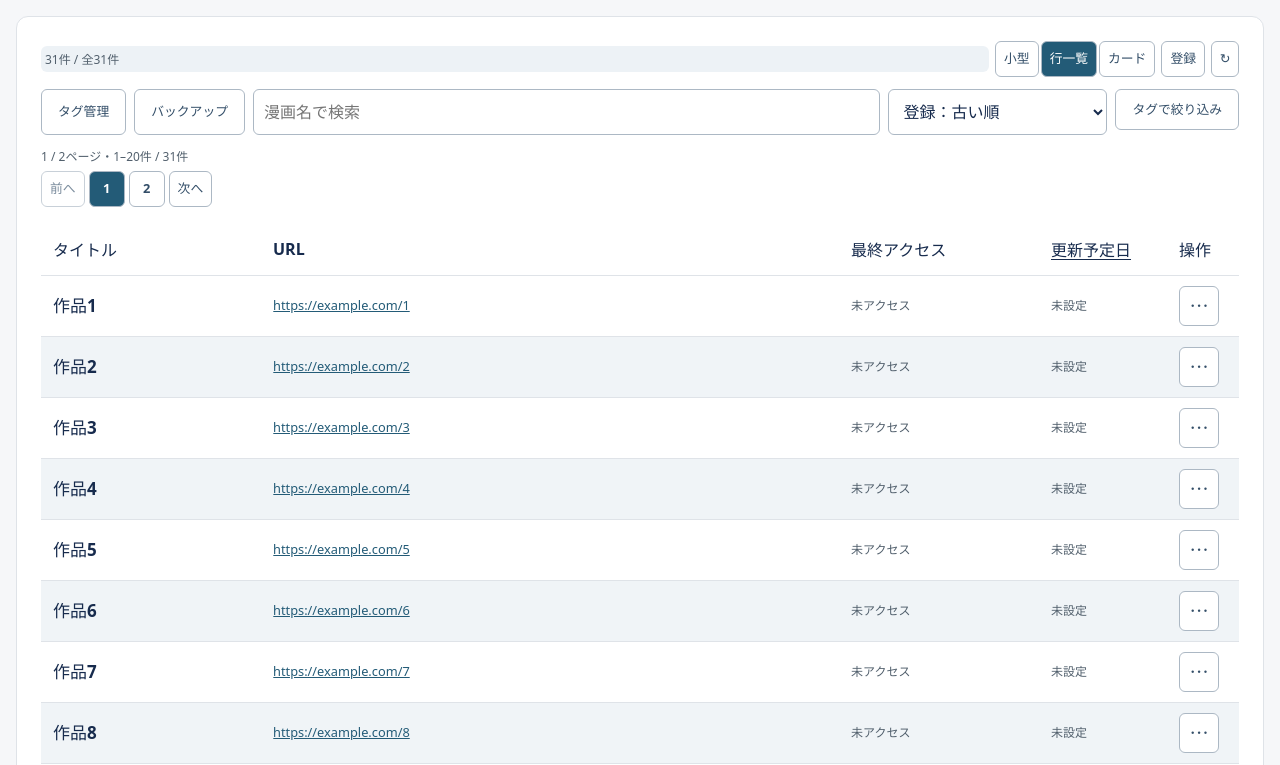
Test case: Tab/SpaceでチェックしEscでボタンへ戻り、外側クリックは検索へ移動する
Check: the heading "作品1" is shown, box [53,294,97,317]
Click the button "タグで絞り込み" at (1177, 110), box [1115,89,1239,130]
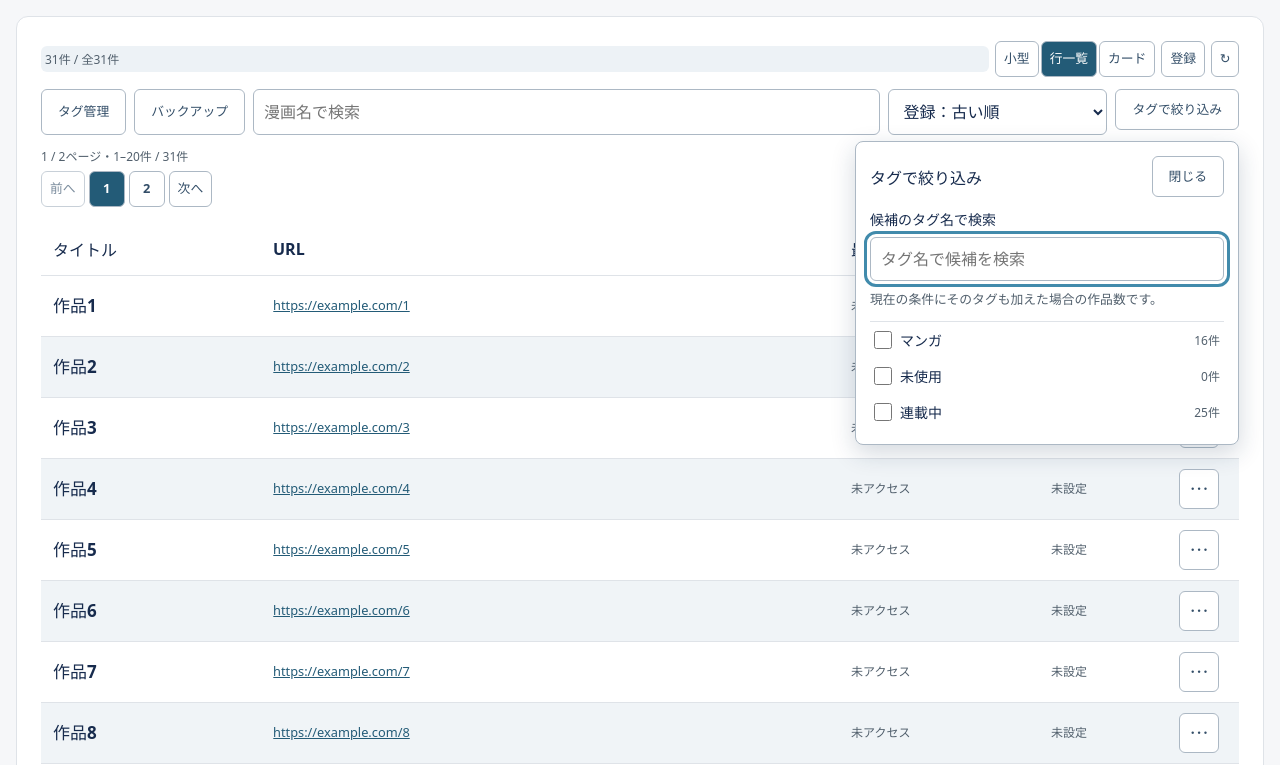
Press Tab
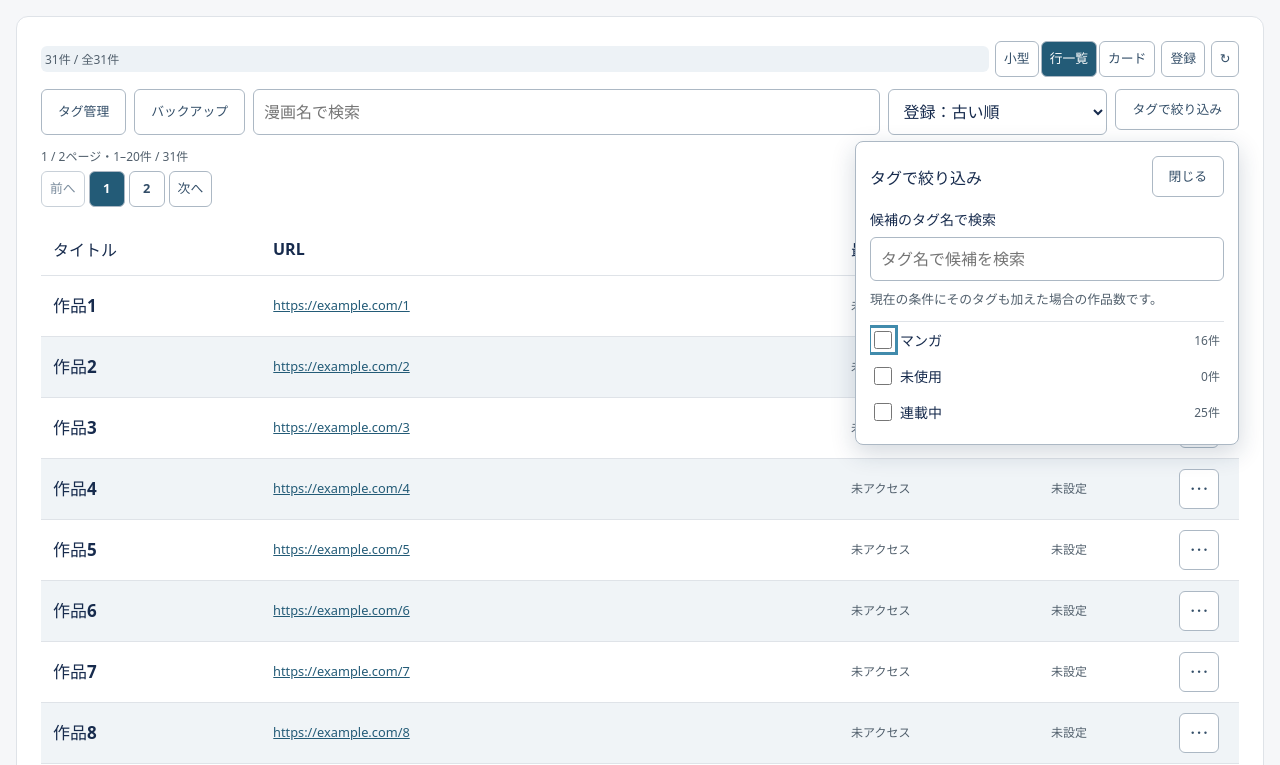
Press Shift+Tab
Type keys " "
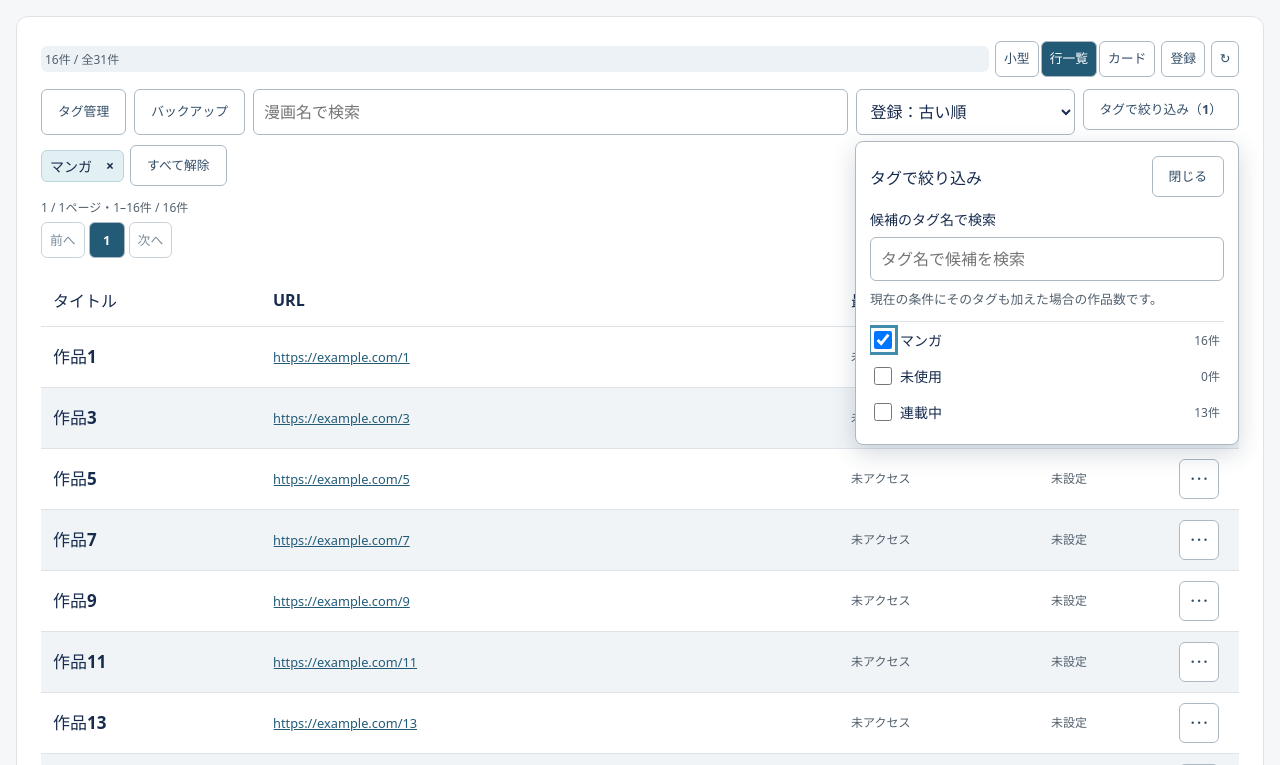
Check: the checkbox labelled "マンガ 16件" is checked, box [874,331,892,349]
Press Escape
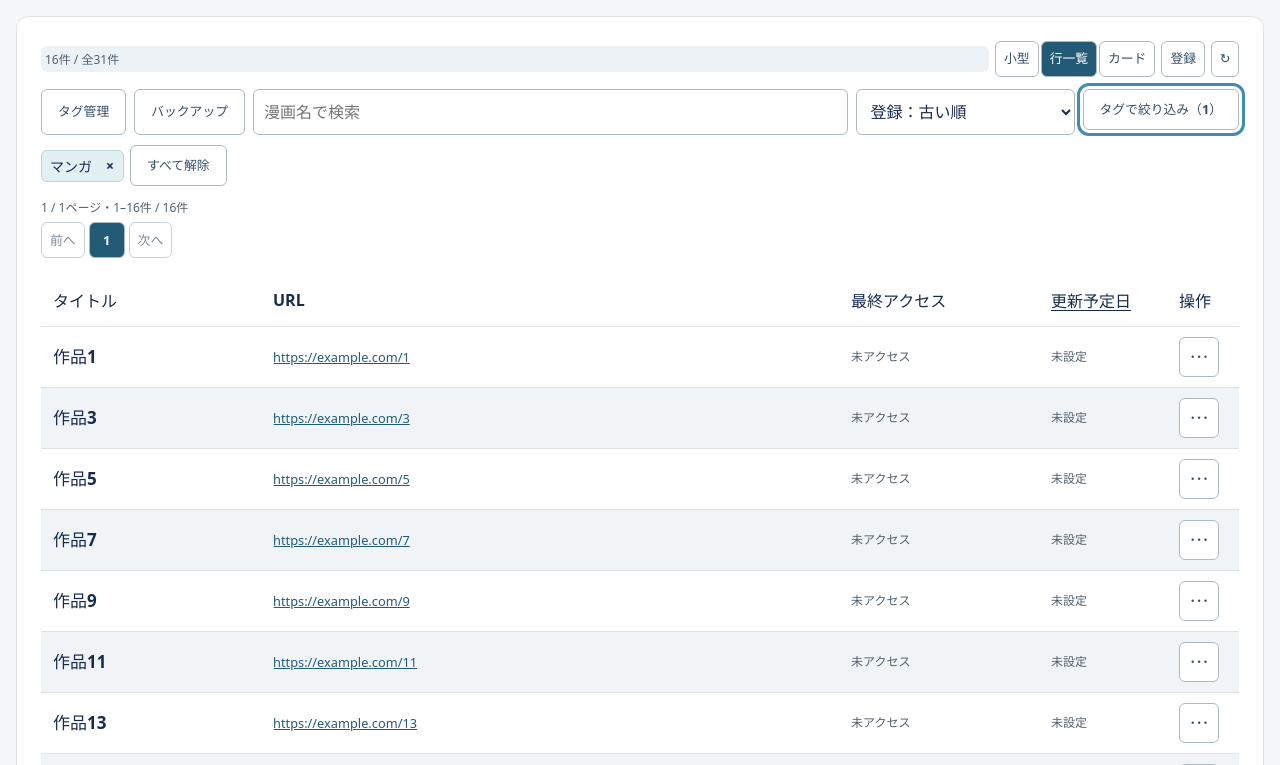
Check: the element "タグ絞り込みの候補" is gone
Click the button "タグで絞り込み（1）" at (1161, 110), box [1082,89,1239,130]
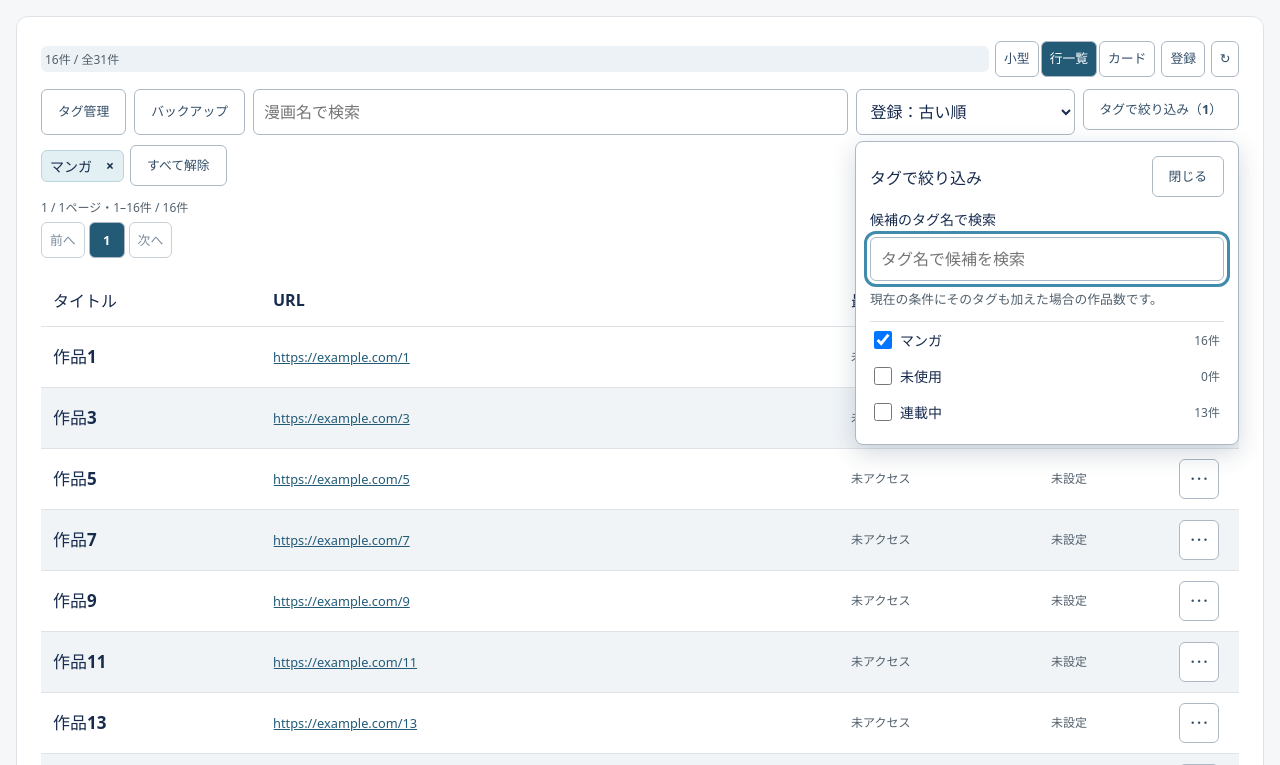
Click the search field labelled "漫画名で検索" at (550, 112), box [253,89,848,135]
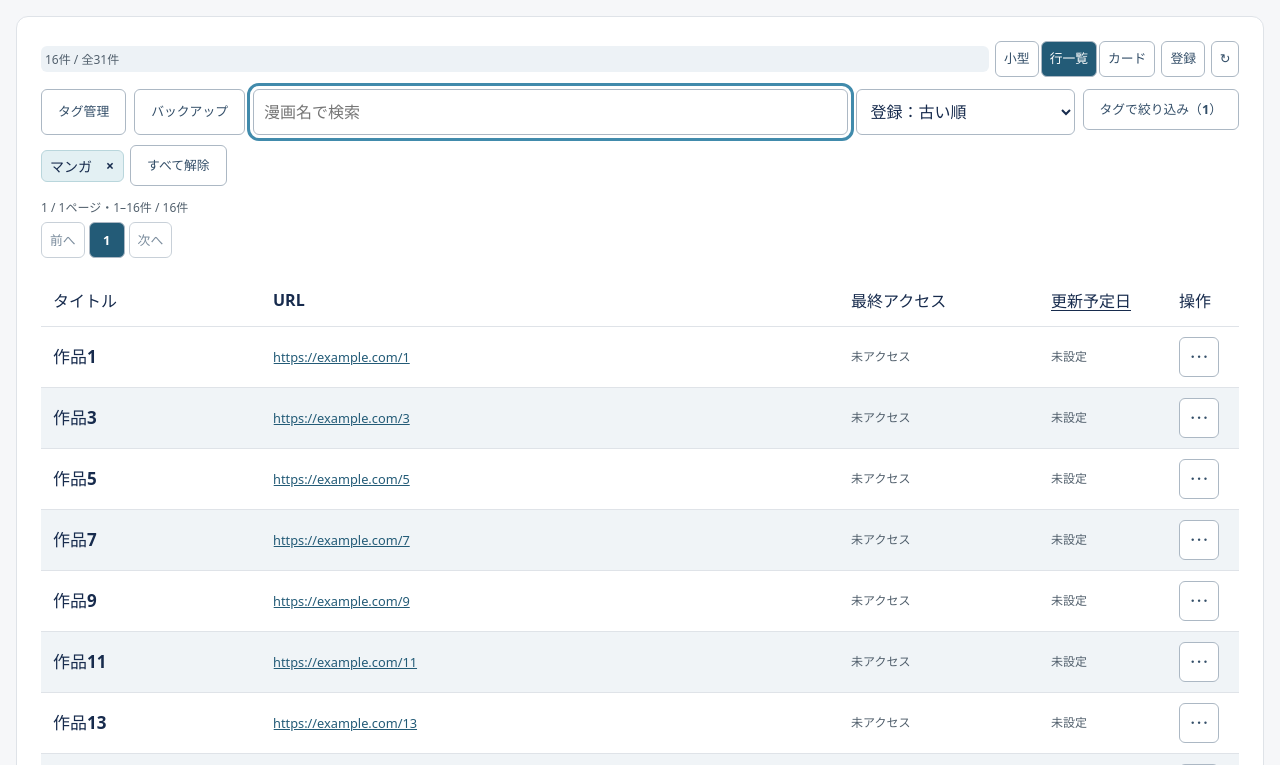
Check: the element named "選択中のタグ条件" shows "マンガ", box [50,157,92,176]
Check: the element "タグ絞り込みの候補" is gone
